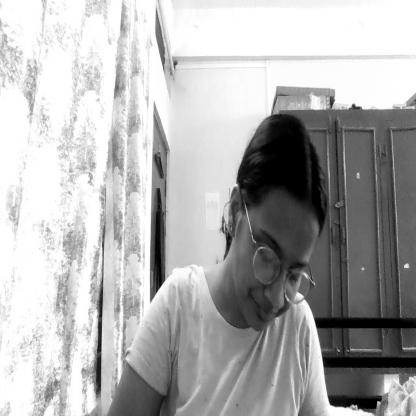Distracted: (231, 119, 321, 343)
